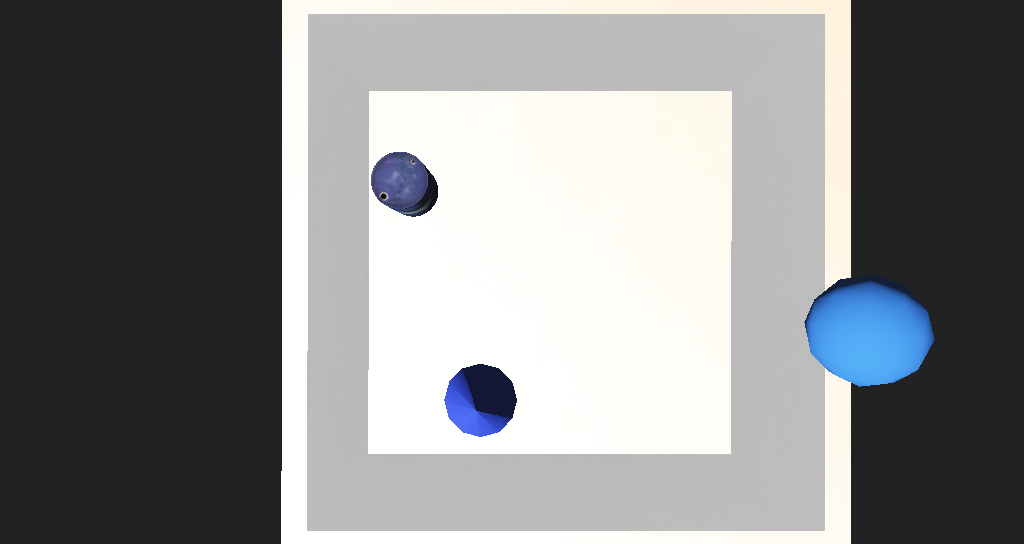cone: (357, 196, 411, 234)
cylinder: (414, 322, 475, 375)
sphere: (691, 270, 778, 332)
